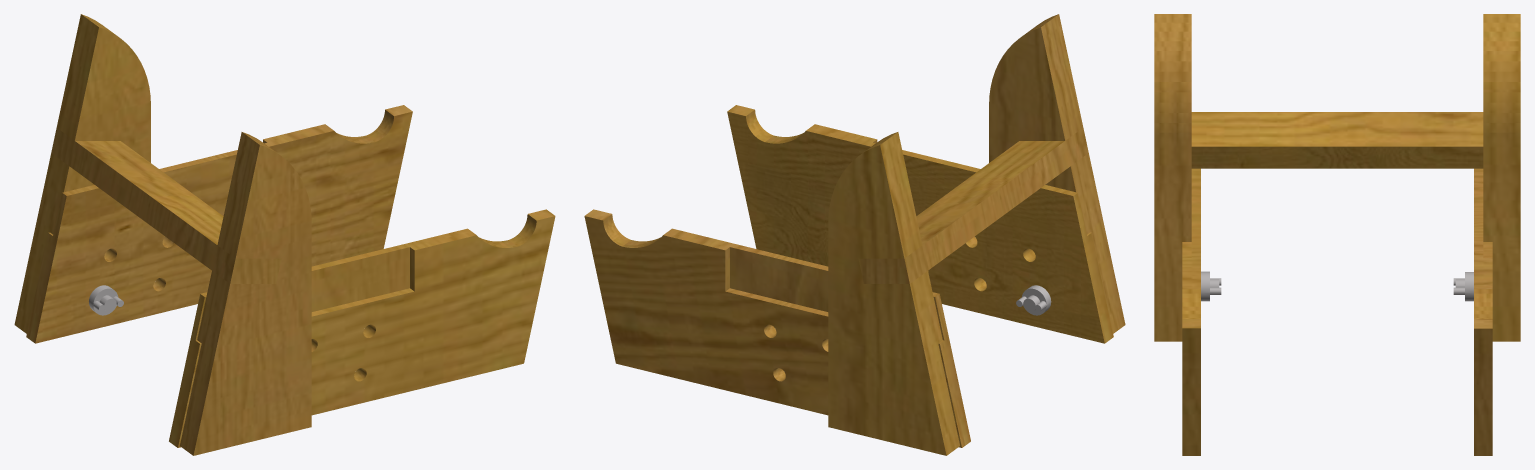
File: base-alta-de-laptop-pino.glb
3 views of the same model, side by side, from view 1: azimuth 30°, elevation 25°; view 2: azimuth 150°, elevation 25°; view 3: azimuth 270°, elevation 25° (orthographic). The views are drawn at different scales.
Size of the model in its own units: 0.24 by 0.18 by 0.197.
Materials: 3 (2 with a texture image).
